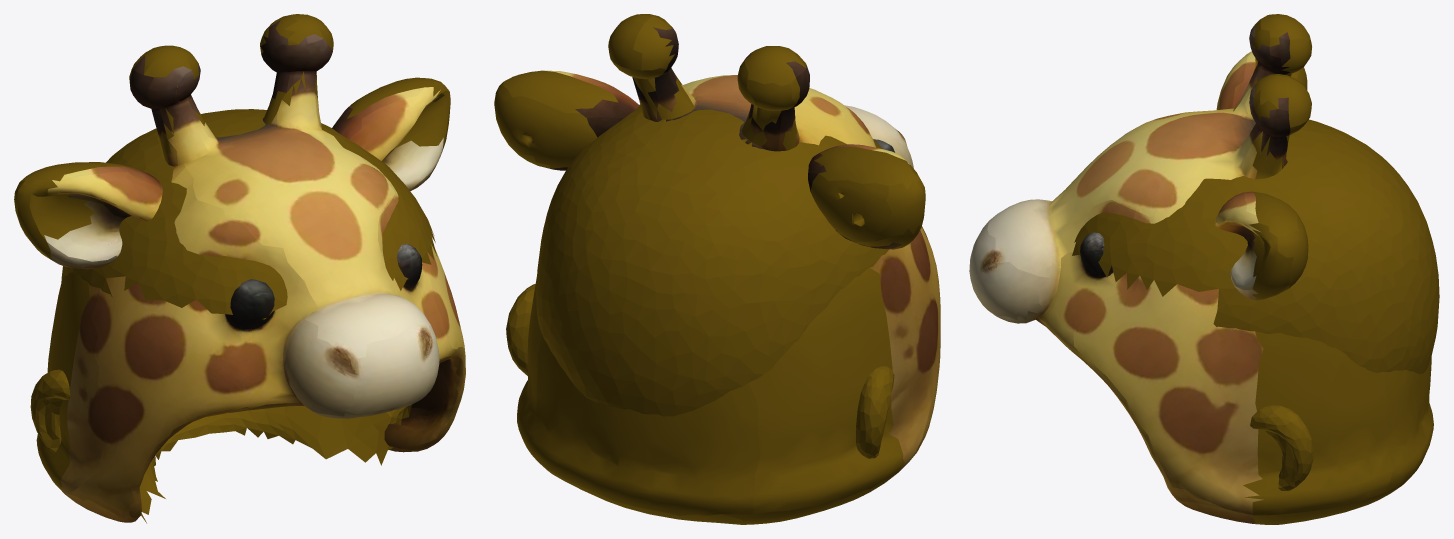
File: giraffe.glb
The picture shows the model from 3 angles, left to right: view 1: azimuth 30°, elevation 25°; view 2: azimuth 150°, elevation 25°; view 3: azimuth 270°, elevation 25°; orthographic projection. The views are drawn at different scales.
Parts seen in each view (by area): view 1: geometry_0, HoodAnatomicalLining; view 2: geometry_0, HoodAnatomicalLining; view 3: geometry_0, HoodAnatomicalLining.
Boxes of the visible parts, x1=… form: geometry_0: x1=14, y1=14, x2=465, y2=522; HoodAnatomicalLining: x1=30, y1=109, x2=437, y2=523; geometry_0: x1=494, y1=14, x2=940, y2=524; HoodAnatomicalLining: x1=506, y1=104, x2=894, y2=458; geometry_0: x1=969, y1=14, x2=1433, y2=524; HoodAnatomicalLining: x1=1072, y1=119, x2=1439, y2=490.
Bounding box in the file's own units: 0.5371 × 0.5264 × 0.5385.
2 materials, 1 textured.
